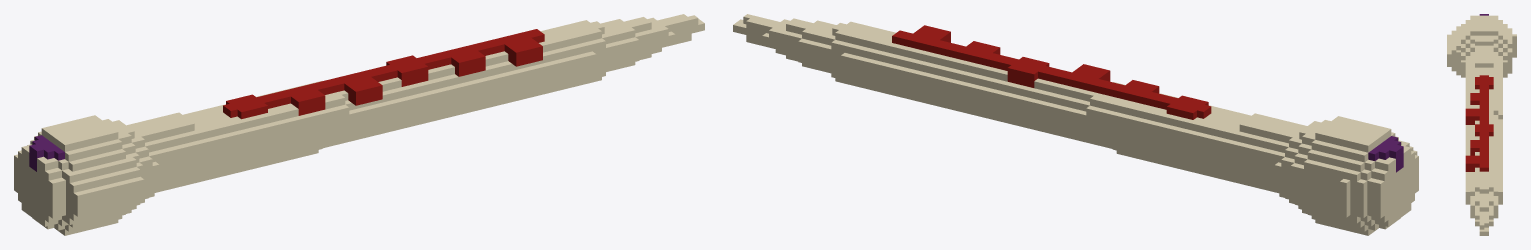
The model's file is biomancer_booster_1.glb.
3 views of the same model, side by side, from view 1: azimuth 30°, elevation 25°; view 2: azimuth 150°, elevation 25°; view 3: azimuth 270°, elevation 25° (orthographic). The views are drawn at different scales.
Visible parts, largest first — view 1: biomancer_booster_1:compound; view 2: biomancer_booster_1:compound; view 3: biomancer_booster_1:compound.
Boxes of the visible parts, x1,y1,x2,y2 form: biomancer_booster_1:compound: (14,14,704,235); biomancer_booster_1:compound: (733,14,1418,235); biomancer_booster_1:compound: (1447,14,1516,235).
Bounding box in the file's own units: 0.2 × 0.026 × 0.03.
